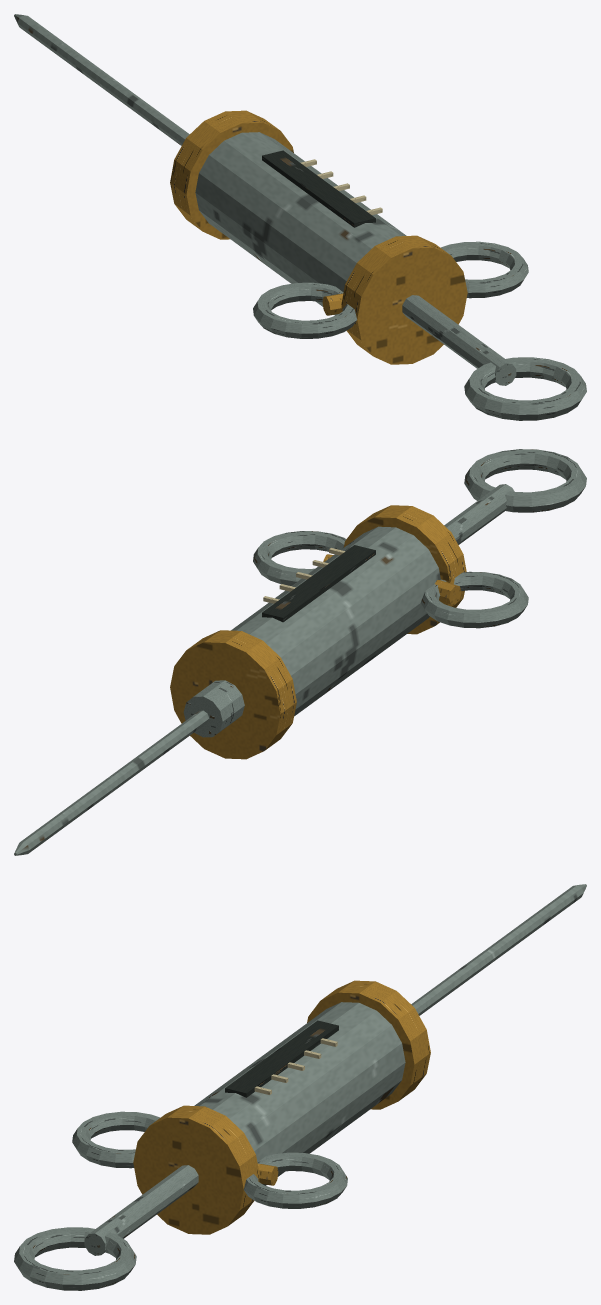
File: spritz.obj
3 renders of one model, top to bottom at view 1: azimuth 30°, elevation 25°; view 2: azimuth 150°, elevation 25°; view 3: azimuth 330°, elevation 25°, orthographic.
Parts seen in each view (by area): view 1: Spritz_barrel, Spritz_collar, Thumb_ring, Spritz_collar.001, Finger_ring, Spritz_Needle, Plunger_shaft, Finger_ring.001, Dose_window; view 2: Spritz_barrel, Spritz_collar.001, Thumb_ring, Spritz_collar, Finger_ring, Spritz_Needle, Dose_window, Finger_ring.001, Spritz_nozzle, Plunger_shaft; view 3: Spritz_barrel, Spritz_collar, Thumb_ring, Spritz_collar.001, Finger_ring.001, Spritz_Needle, Plunger_shaft, Finger_ring, Dose_window.
Part boxes in pixels (x1=…): Spritz_barrel: x1=195, y1=132, x2=406, y2=315; Spritz_collar: x1=341, y1=235, x2=467, y2=364; Thumb_ring: x1=464, y1=357, x2=586, y2=420; Spritz_collar.001: x1=170, y1=110, x2=293, y2=239; Finger_ring: x1=253, y1=282, x2=357, y2=338; Spritz_Needle: x1=14, y1=14, x2=189, y2=145; Plunger_shaft: x1=402, y1=295, x2=516, y2=385; Finger_ring.001: x1=440, y1=241, x2=528, y2=298; Dose_window: x1=262, y1=150, x2=375, y2=227; Spritz_barrel: x1=231, y1=526, x2=440, y2=716; Spritz_collar.001: x1=170, y1=630, x2=296, y2=759; Thumb_ring: x1=464, y1=449, x2=586, y2=512; Spritz_collar: x1=343, y1=505, x2=466, y2=634; Finger_ring: x1=420, y1=571, x2=528, y2=628; Spritz_Needle: x1=14, y1=710, x2=209, y2=855; Dose_window: x1=262, y1=545, x2=375, y2=622; Finger_ring.001: x1=253, y1=531, x2=346, y2=585; Spritz_nozzle: x1=183, y1=680, x2=244, y2=737; Plunger_shaft: x1=444, y1=484, x2=514, y2=544; Spritz_barrel: x1=194, y1=1002, x2=405, y2=1185; Spritz_collar: x1=133, y1=1105, x2=259, y2=1234; Thumb_ring: x1=14, y1=1227, x2=136, y2=1290; Spritz_collar.001: x1=307, y1=980, x2=430, y2=1109; Finger_ring.001: x1=243, y1=1152, x2=347, y2=1208; Spritz_Needle: x1=411, y1=884, x2=586, y2=1015; Plunger_shaft: x1=84, y1=1165, x2=198, y2=1255; Finger_ring: x1=72, y1=1111, x2=160, y2=1168; Dose_window: x1=225, y1=1020, x2=338, y2=1097.
Bounding box in the file's own units: 0.147 × 0.062 × 0.526.
Materials: 4 (4 with a texture image).
